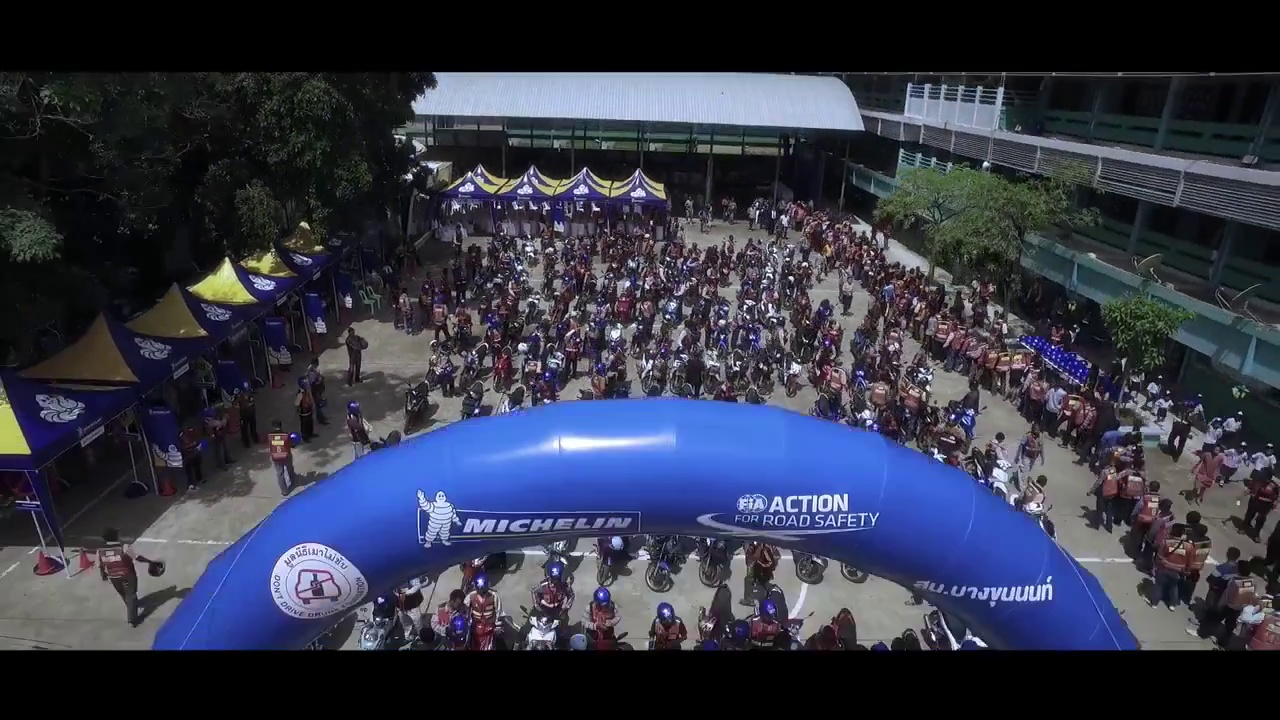helmet: (541, 559, 568, 589), (645, 594, 671, 623), (590, 582, 611, 613), (469, 573, 489, 599), (344, 397, 366, 416)
